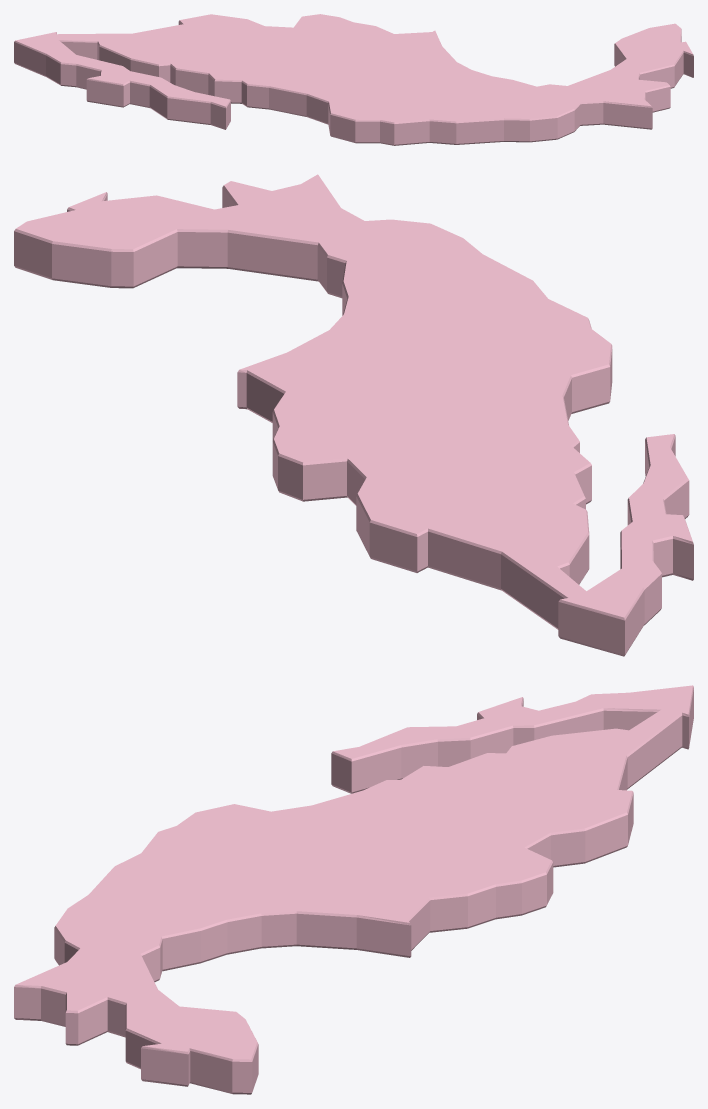
Rendered from MEX.glb.
The picture shows the model from 3 angles, top to bottom: view 1: azimuth 30°, elevation 25°; view 2: azimuth 150°, elevation 25°; view 3: azimuth 270°, elevation 25°; orthographic projection. The views are drawn at different scales.
Size of the model in its own units: 1.56 by 0.068 by 1.2.
